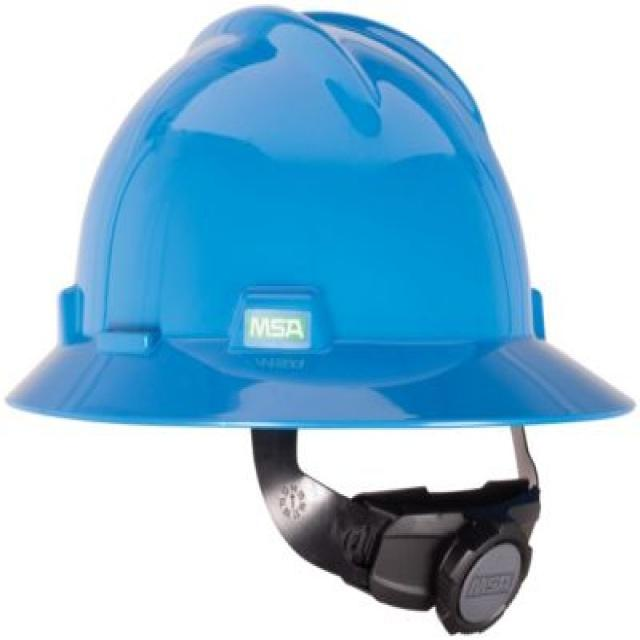helmet: (8, 5, 637, 579)
